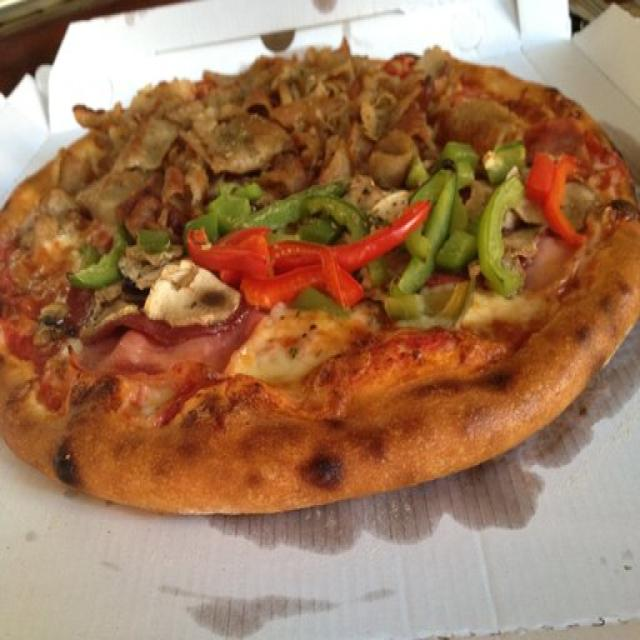Beef: (90, 108, 410, 175), (238, 74, 518, 130), (62, 161, 155, 221)
Green Pepper: (408, 174, 472, 288), (210, 188, 360, 236), (480, 176, 530, 294), (70, 231, 124, 293), (296, 286, 345, 314), (448, 143, 478, 188), (441, 236, 476, 273), (488, 139, 524, 173), (384, 292, 429, 316), (136, 227, 169, 252), (185, 217, 219, 237)
Ham: (80, 318, 259, 377)
Mushrooms: (128, 256, 234, 312)
Pizza: (0, 47, 640, 518)
Red Pepper: (186, 212, 434, 300), (534, 151, 580, 245)
